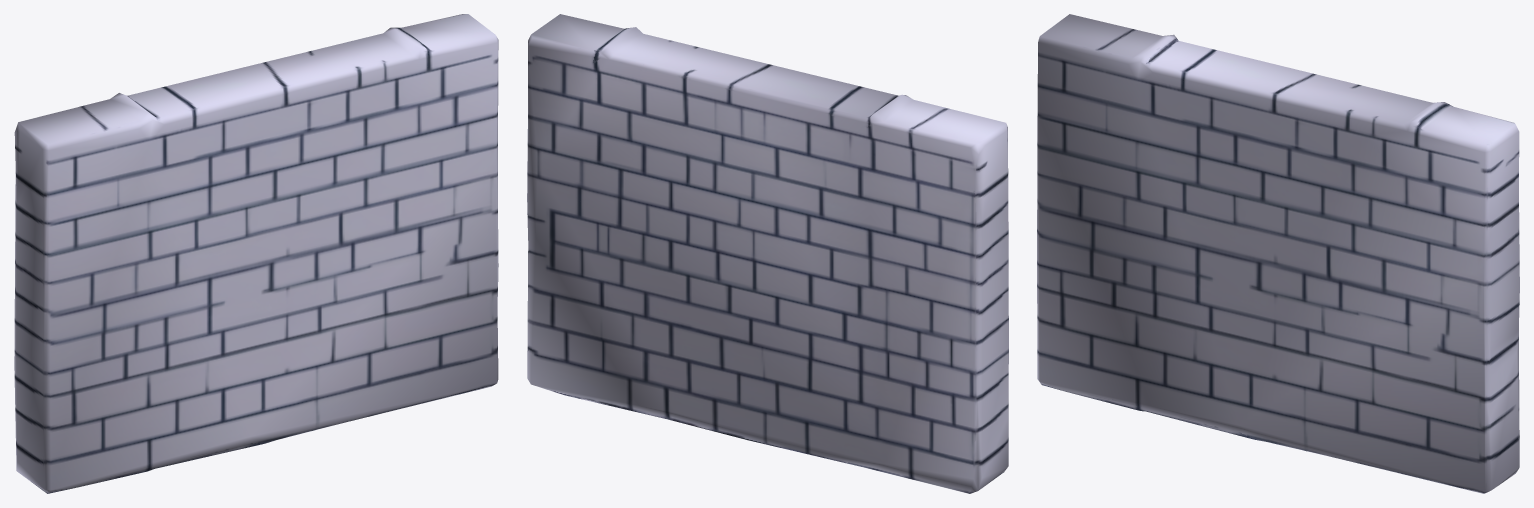
File: whitewashed-brick-wall.glb
3 views of the same model, side by side, from view 1: azimuth 30°, elevation 25°; view 2: azimuth 150°, elevation 25°; view 3: azimuth 330°, elevation 25° (orthographic).
Visible parts, largest first — view 1: geometry_0.001; view 2: geometry_0.001; view 3: geometry_0.001.
Part boxes in pixels (<box>): geometry_0.001: <box>14,14,498,493</box>; geometry_0.001: <box>527,14,1008,493</box>; geometry_0.001: <box>1037,14,1519,493</box>.
Size of the model in its own units: 0.9998 by 0.754 by 0.131.
1 material, 1 textured.
